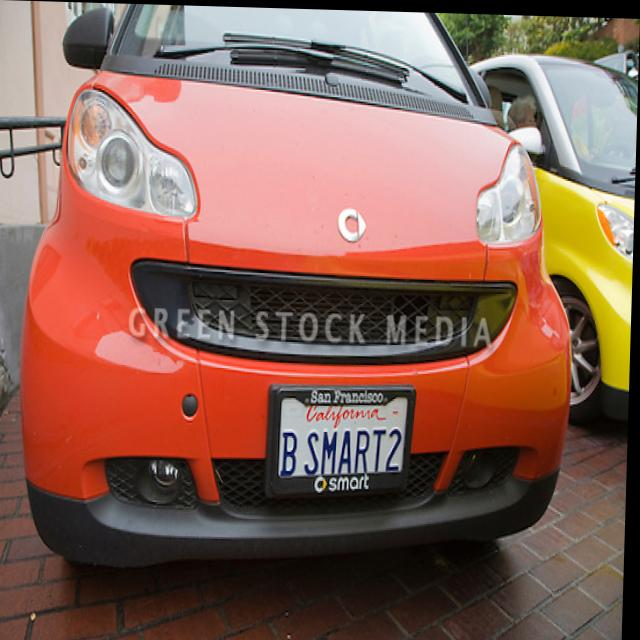licence: (268, 382, 414, 488)
